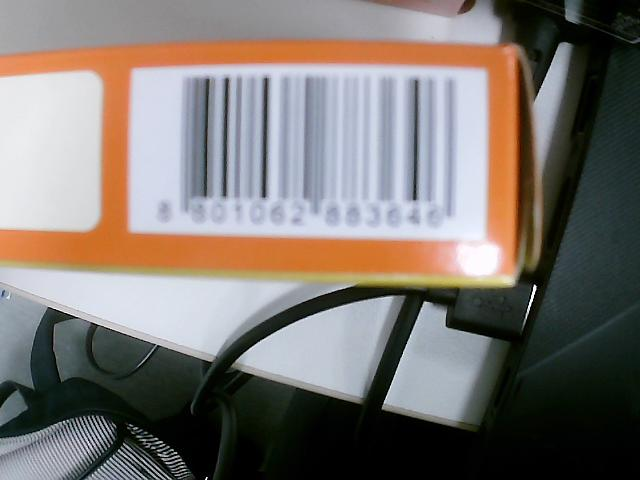crunchy-1500-2024-12-29: (147, 76, 474, 231)
